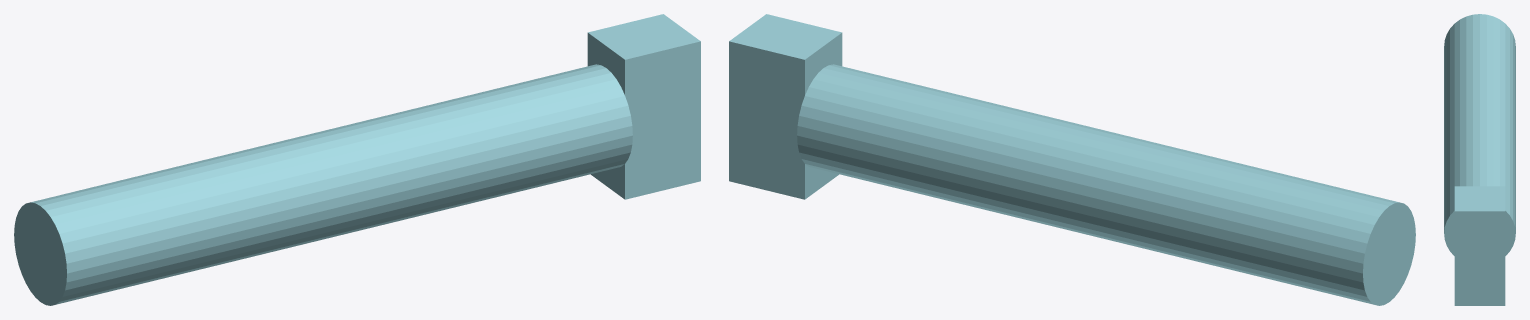
File: cylinder_hammer_v1008.obj
3 renders of one model, left to right at view 1: azimuth 30°, elevation 25°; view 2: azimuth 150°, elevation 25°; view 3: azimuth 270°, elevation 25°, orthographic. The views are drawn at different scales.
Size of the model in its own units: 0.3296 by 0.0687 by 0.0472.
Materials: 1 (1 with a texture image).
